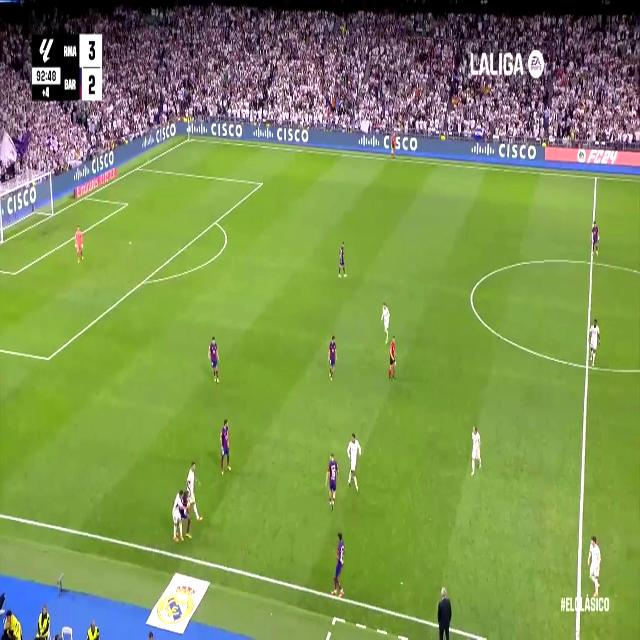bigarea_bottom_inner: (44, 347, 52, 369)
bigarea_top_inner: (258, 178, 262, 188)
bigarea_top_outter: (135, 161, 141, 172)
bottom_arc_area_intersection: (140, 272, 149, 288)
corner: (186, 134, 192, 142)
halfcircle_bottom: (582, 353, 593, 378)
halfcircle_top: (587, 253, 597, 272)
midline_top_intersection: (592, 170, 600, 184)
smallarea_top_inner: (124, 200, 128, 208)
top_arc_area_intersection: (212, 214, 219, 228)
